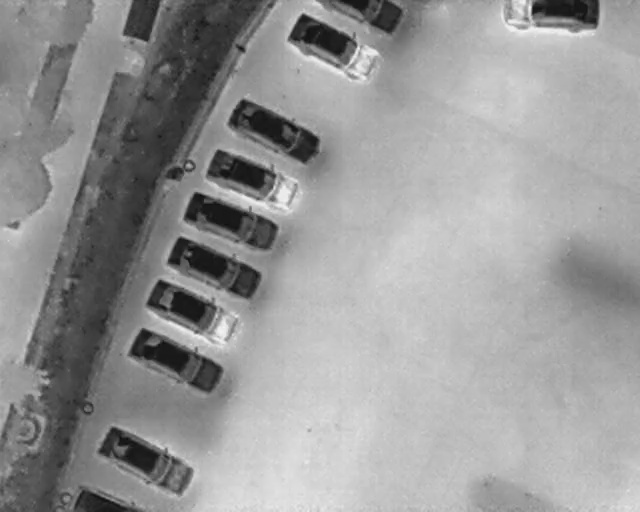Car: (89, 418, 201, 502), (120, 319, 232, 403), (221, 91, 326, 173), (280, 6, 385, 88), (140, 272, 246, 350), (178, 185, 286, 261), (162, 231, 267, 306), (200, 144, 305, 214), (499, 0, 602, 34), (314, 0, 406, 36), (67, 482, 146, 510)
